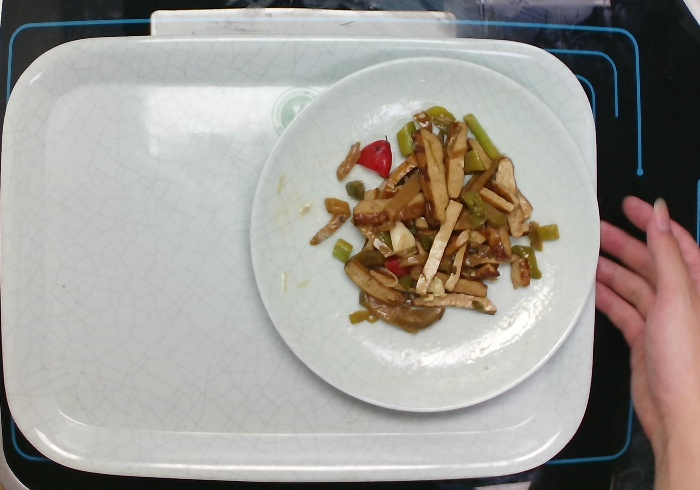JYsf-Da_Yuan_Pan: (234, 51, 598, 416)
